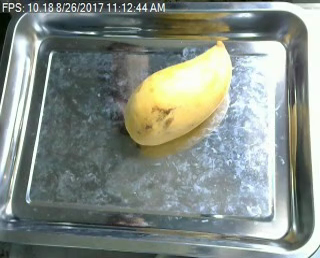Mango: (120, 41, 238, 146)
